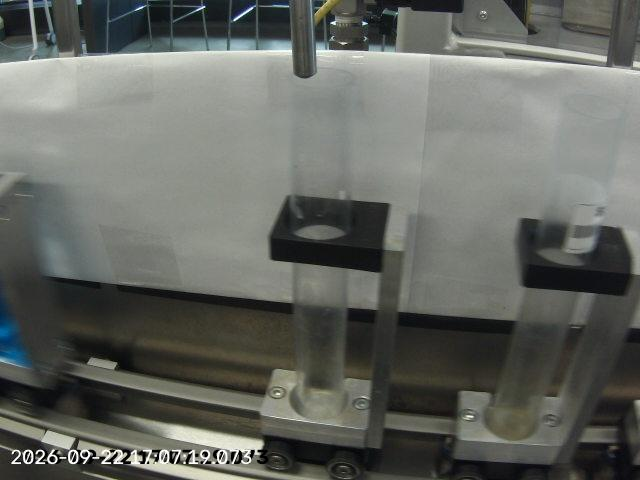vial: (489, 92, 624, 437), (287, 66, 354, 417)
